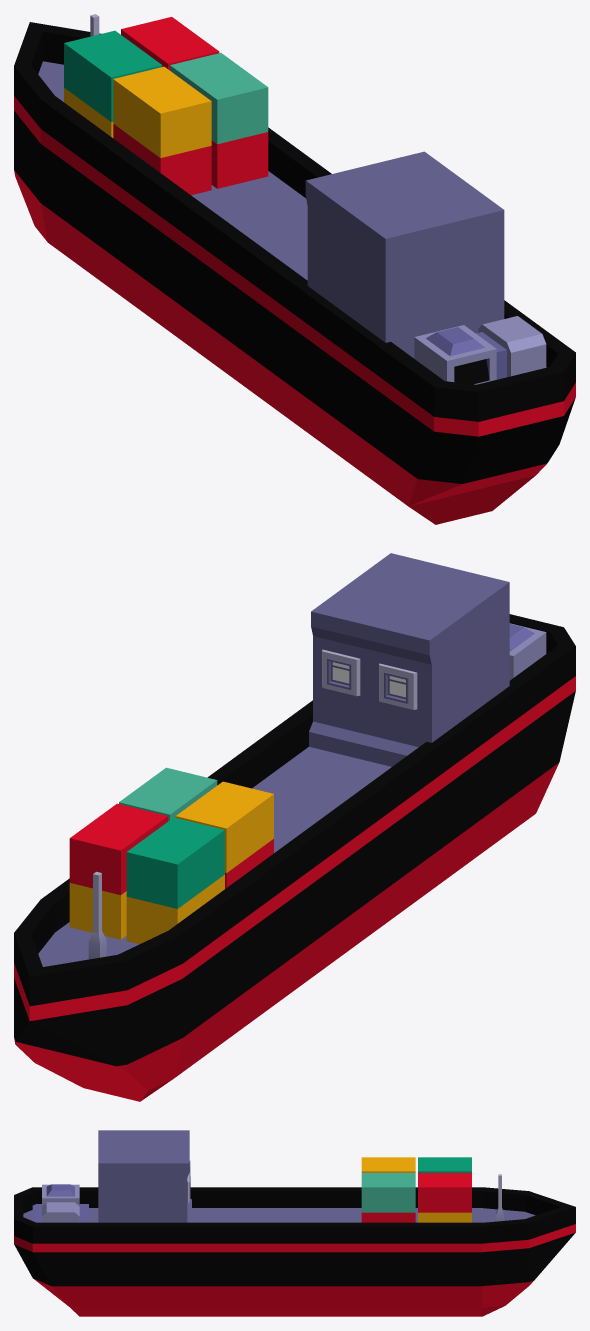
Rendered from tankar.glb.
The picture shows the model from 3 angles, top to bottom: view 1: azimuth 30°, elevation 25°; view 2: azimuth 150°, elevation 25°; view 3: azimuth 270°, elevation 25°; orthographic projection. The views are drawn at different scales.
Parts seen in each view (by area): view 1: mergedBlocks(Clone); view 2: mergedBlocks(Clone); view 3: mergedBlocks(Clone).
Boxes of the visible parts, <box> form: mergedBlocks(Clone): <box>14,14,575,524</box>; mergedBlocks(Clone): <box>14,553,575,1101</box>; mergedBlocks(Clone): <box>14,1130,575,1316</box>.
Bounding box in the file's own units: 1 × 1.9 × 6.
